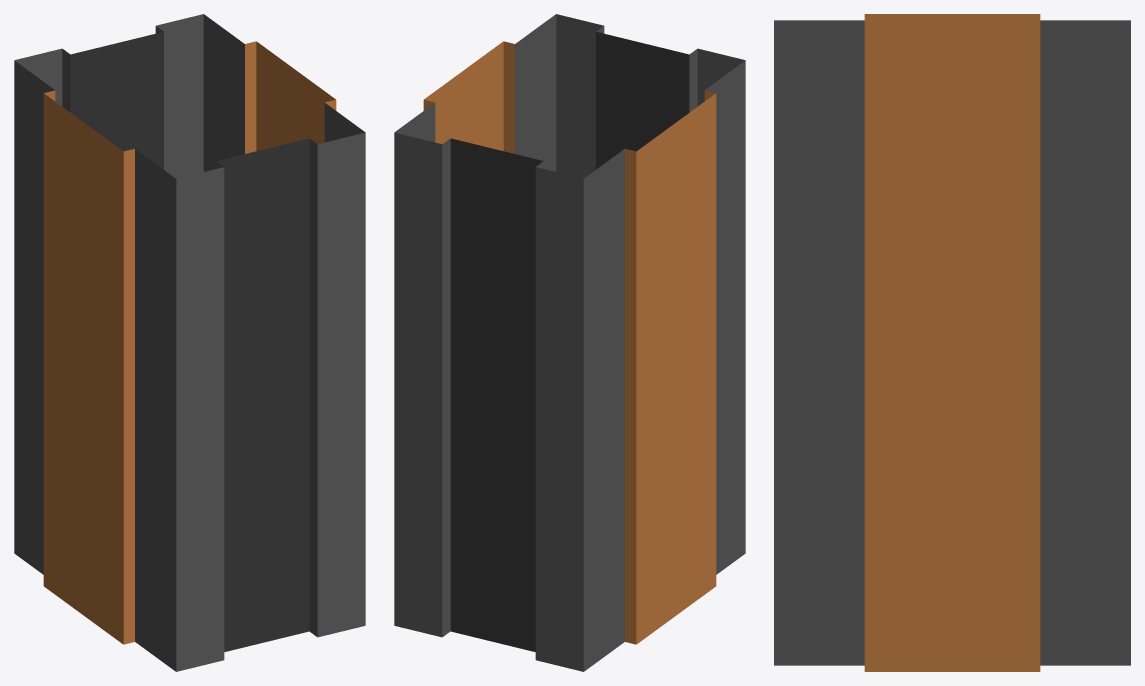
File: SkyTrain_Support_Straight.FBX
3 renders of one model, left to right at view 1: azimuth 30°, elevation 25°; view 2: azimuth 150°, elevation 25°; view 3: azimuth 270°, elevation 25°, orthographic. The views are drawn at different scales.
Parts seen in each view (by area): view 1: SkyTrain_Support_Straight_LOD0; view 2: SkyTrain_Support_Straight_LOD0; view 3: SkyTrain_Support_Straight_LOD0.
Part boxes in pixels (x1=…): SkyTrain_Support_Straight_LOD0: x1=14, y1=14, x2=365, y2=671; SkyTrain_Support_Straight_LOD0: x1=394, y1=14, x2=745, y2=671; SkyTrain_Support_Straight_LOD0: x1=774, y1=14, x2=1130, y2=671.
Size of what is drawn, in the model's own units: 72.38 by 160 by 95.44.
